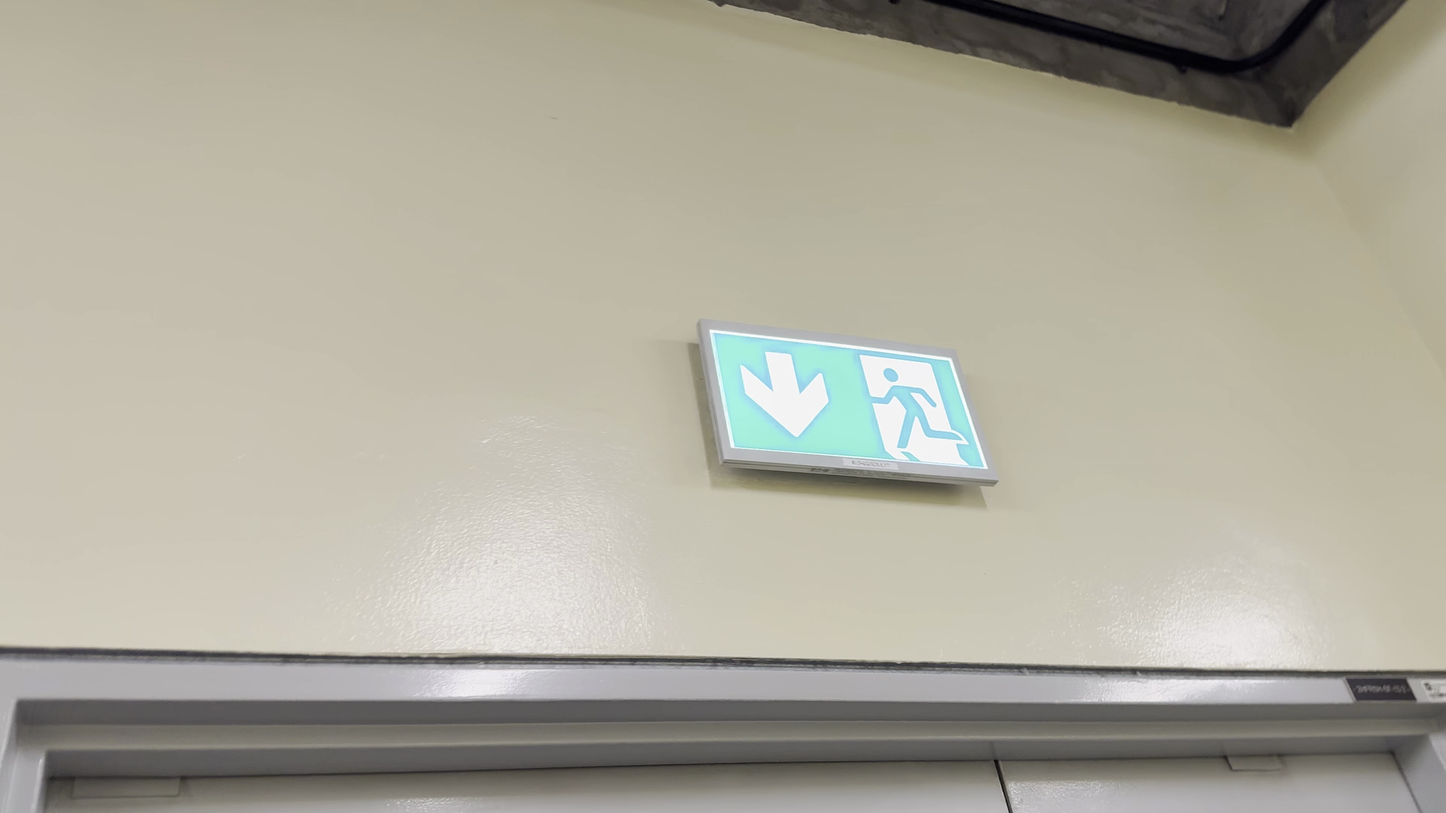emergency_exit: (695, 317, 999, 487)
